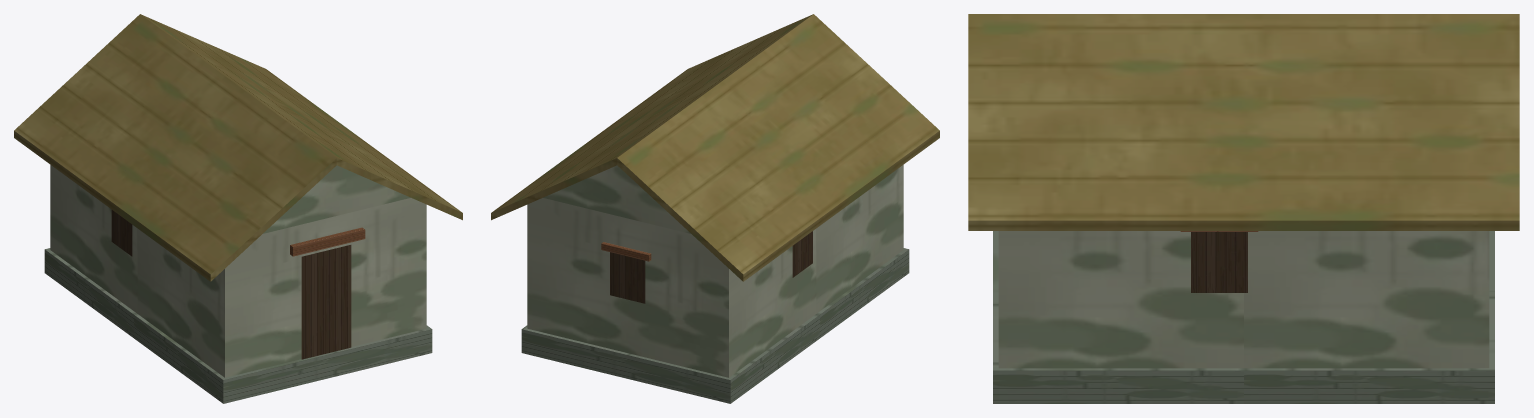
Rendered from ae_jungle_stone_medium_block_lod1.glb.
3 renders of one model, left to right at view 1: azimuth 30°, elevation 25°; view 2: azimuth 150°, elevation 25°; view 3: azimuth 270°, elevation 25°, orthographic. The views are drawn at different scales.
Parts seen in each view (by area): view 1: ae_jungle_stone_medium_block_lod1; view 2: ae_jungle_stone_medium_block_lod1; view 3: ae_jungle_stone_medium_block_lod1.
Boxes of the visible parts, x1,y1,x2,y2 form: ae_jungle_stone_medium_block_lod1: (14, 14, 462, 403); ae_jungle_stone_medium_block_lod1: (491, 14, 939, 403); ae_jungle_stone_medium_block_lod1: (968, 14, 1519, 403).
Size of the model in its own units: 5 by 4.3 by 6.75.
1 material, 1 textured.
